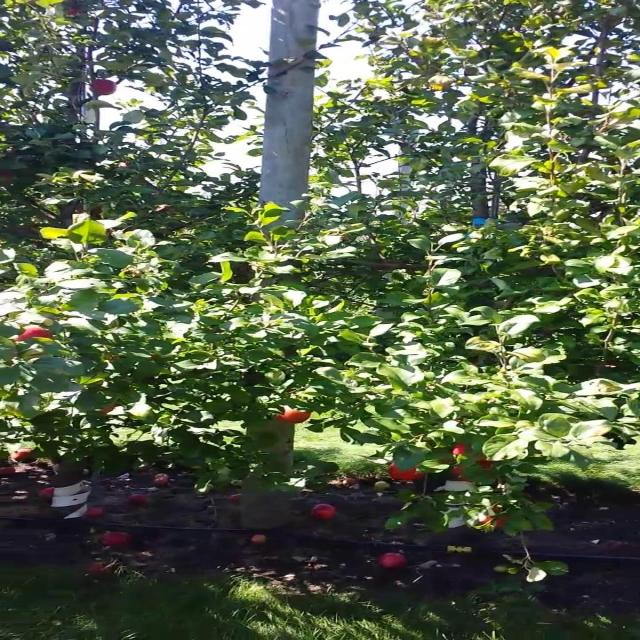apple: (276, 405, 311, 424), (13, 325, 53, 341), (389, 464, 424, 481), (478, 514, 509, 529), (91, 79, 118, 96), (11, 448, 36, 462), (453, 465, 469, 481), (451, 442, 467, 456), (100, 404, 118, 414), (478, 459, 493, 469), (1, 169, 13, 180), (67, 5, 80, 15)
